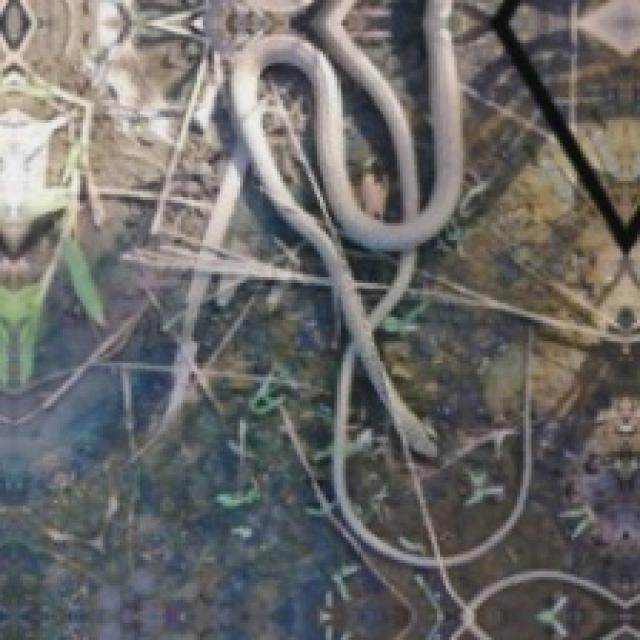paradise tree snake: (0, 0, 529, 566)
